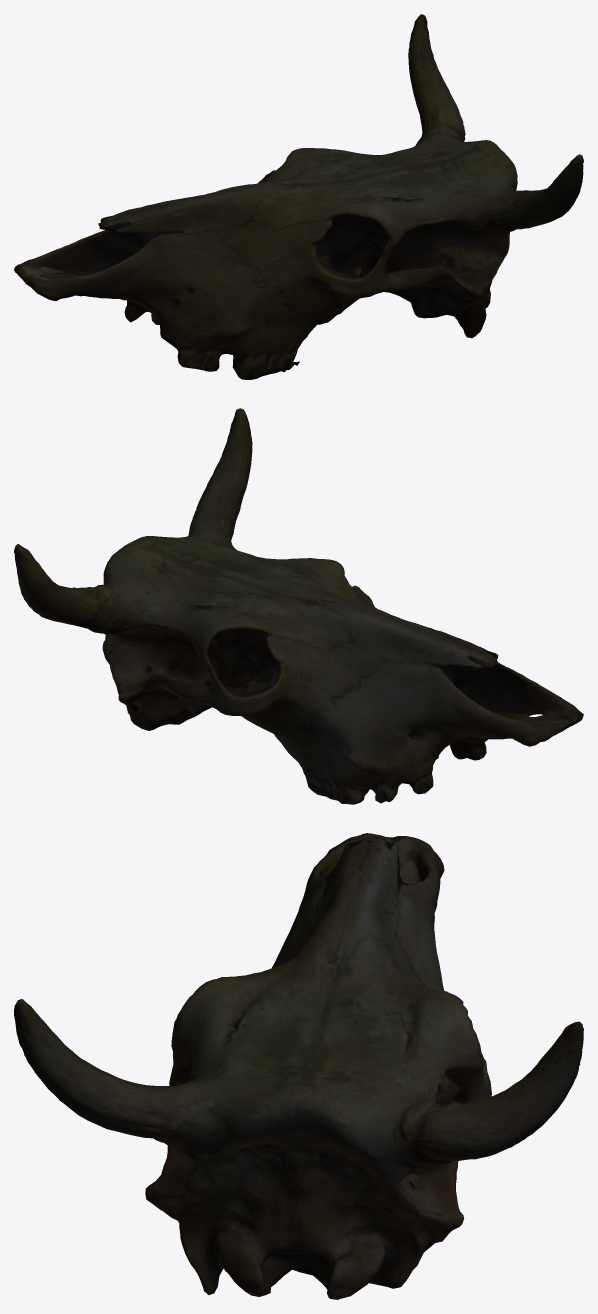
Rendered from model_obj-Jaroslav.glb.
The picture shows the model from 3 angles, top to bottom: view 1: azimuth 30°, elevation 25°; view 2: azimuth 150°, elevation 25°; view 3: azimuth 270°, elevation 25°; orthographic projection. The views are drawn at different scales.
Parts seen in each view (by area): view 1: Node1; view 2: Node1; view 3: Node1.
Part boxes in pixels (box(x1,y1,x2,y2)): Node1: box(14, 14, 583, 379); Node1: box(14, 408, 583, 804); Node1: box(14, 833, 583, 1299).
Bounding box in the file's own units: 0.4863 × 0.2166 × 0.3369.
1 material, 1 textured.
